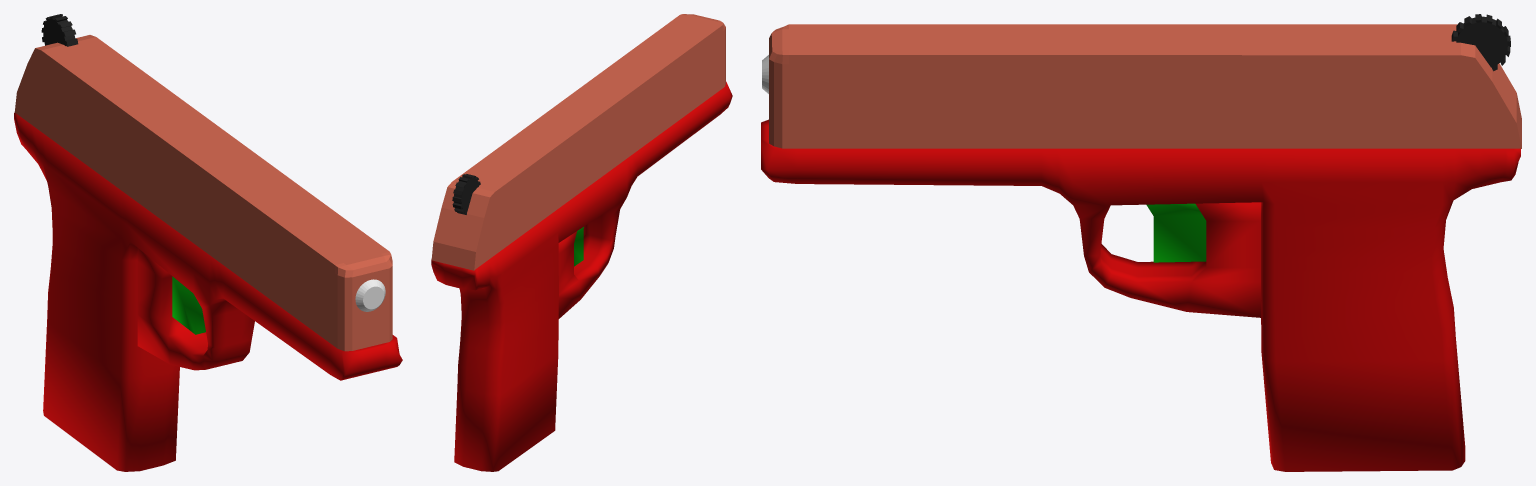
Rendered from Pistol_FiveSeven_Mk02_04.fbx.
The picture shows the model from 3 angles, left to right: view 1: azimuth 30°, elevation 25°; view 2: azimuth 150°, elevation 25°; view 3: azimuth 270°, elevation 25°; orthographic projection. The views are drawn at different scales.
Parts seen in each view (by area): view 1: Trigger Housing + Grip.001, Slide, Circle, Circle.001; view 2: Trigger Housing + Grip.001, Slide, Circle; view 3: Trigger Housing + Grip.001, Slide, Circle.
Part boxes in pixels (left/top/right/bottom): Trigger Housing + Grip.001: left=14, top=112, right=402, bottom=471; Slide: left=14, top=35, right=392, bottom=351; Circle: left=41, top=14, right=78, bottom=46; Circle.001: left=355, top=279, right=385, bottom=311; Trigger Housing + Grip.001: left=431, top=81, right=732, bottom=471; Slide: left=431, top=14, right=725, bottom=270; Circle: left=452, top=174, right=480, bottom=214; Trigger Housing + Grip.001: left=761, top=119, right=1520, bottom=471; Slide: left=769, top=24, right=1521, bottom=148; Circle: left=1451, top=14, right=1510, bottom=71.
Bounding box in the file's own units: 2.21 × 14.28 × 22.4.
